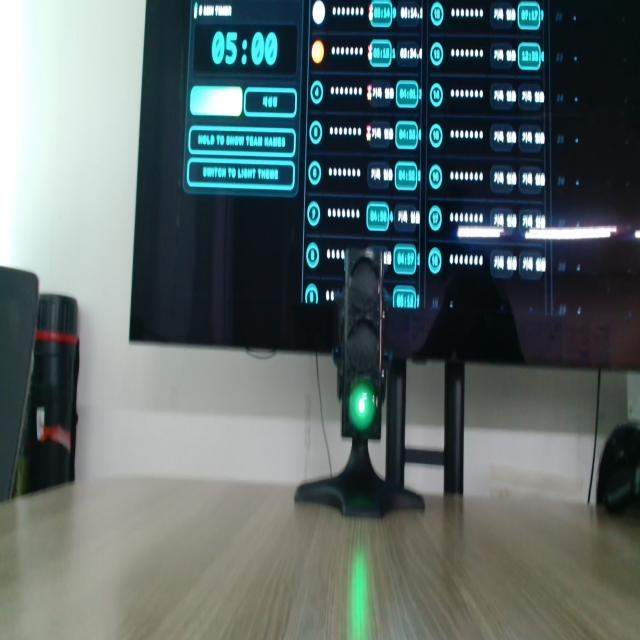green_light: (349, 381, 376, 431)
